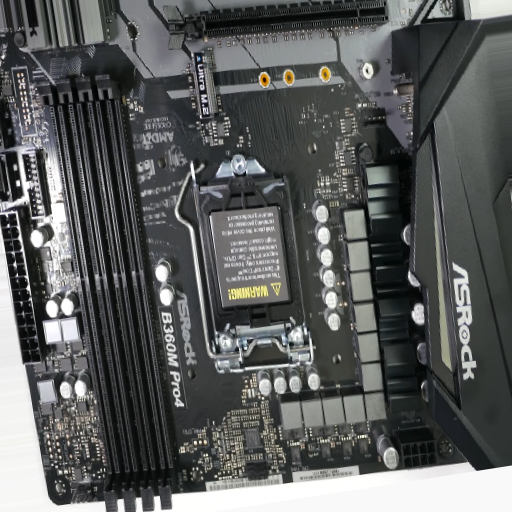CPU: (193, 153, 315, 373)
GPU: (160, 1, 392, 50)
MOTHERBOARD: (1, 1, 469, 507)
RAM: (36, 77, 174, 511)
SSD: (189, 50, 218, 118)
